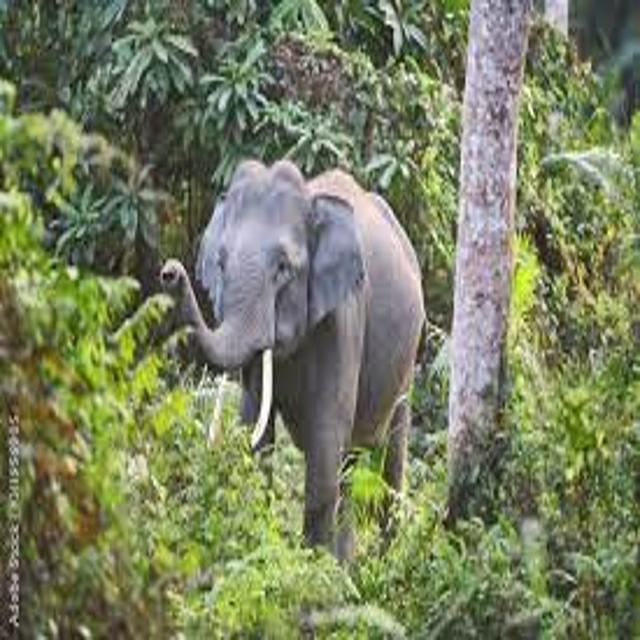elephant: (120, 123, 472, 600)
